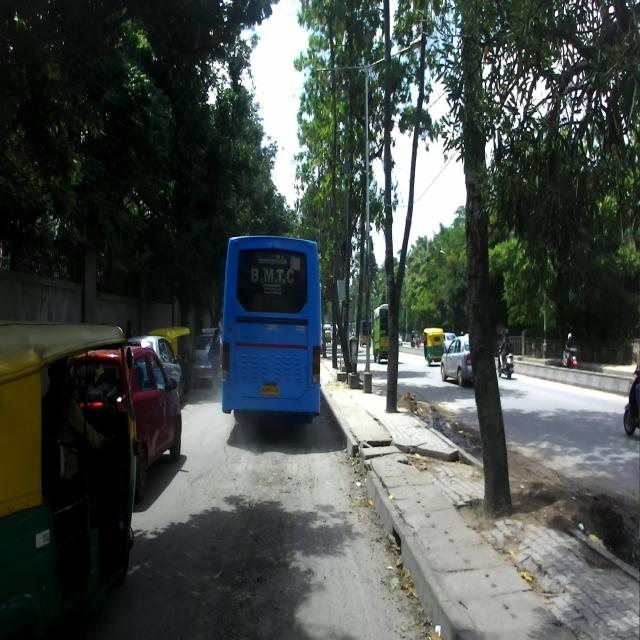autorickshaw: (0, 320, 142, 638)
bus: (220, 230, 322, 432)
